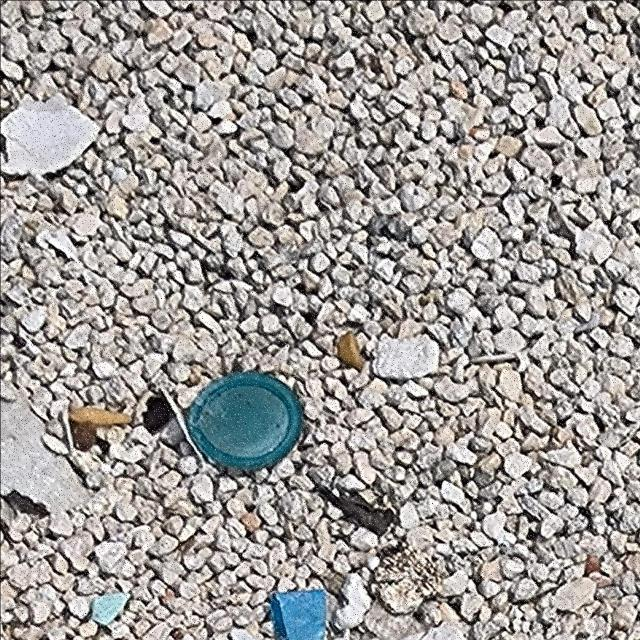plastic_waste: (186, 371, 305, 472)
